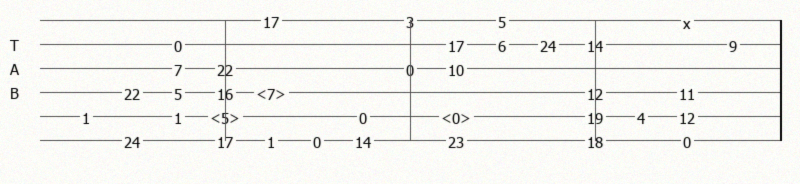0: (174, 37, 186, 52), (313, 133, 325, 148), (359, 109, 371, 124), (406, 61, 418, 76), (683, 133, 695, 148)
1: (82, 109, 94, 124), (174, 109, 186, 124), (267, 133, 279, 148)
10: (448, 61, 468, 76)
11: (679, 85, 699, 100)
12: (587, 85, 607, 100), (679, 109, 699, 124)
14: (355, 133, 375, 148), (587, 37, 607, 52)
16: (217, 85, 237, 100)
17: (217, 133, 237, 148), (263, 13, 283, 28), (448, 37, 468, 52)
18: (587, 133, 607, 148)
19: (587, 109, 607, 124)
22: (124, 85, 144, 100), (217, 61, 237, 76)
23: (448, 133, 468, 148)
24: (124, 133, 144, 148), (540, 37, 560, 52)
3: (406, 13, 418, 28)
4: (637, 109, 649, 124)
5: (174, 85, 186, 100), (498, 13, 510, 28)
6: (498, 37, 510, 52)
7: (174, 61, 186, 76)
9: (729, 37, 741, 52)
harmonic: (210, 109, 244, 124), (256, 85, 290, 100), (441, 109, 475, 124)
x: (683, 14, 695, 26)
